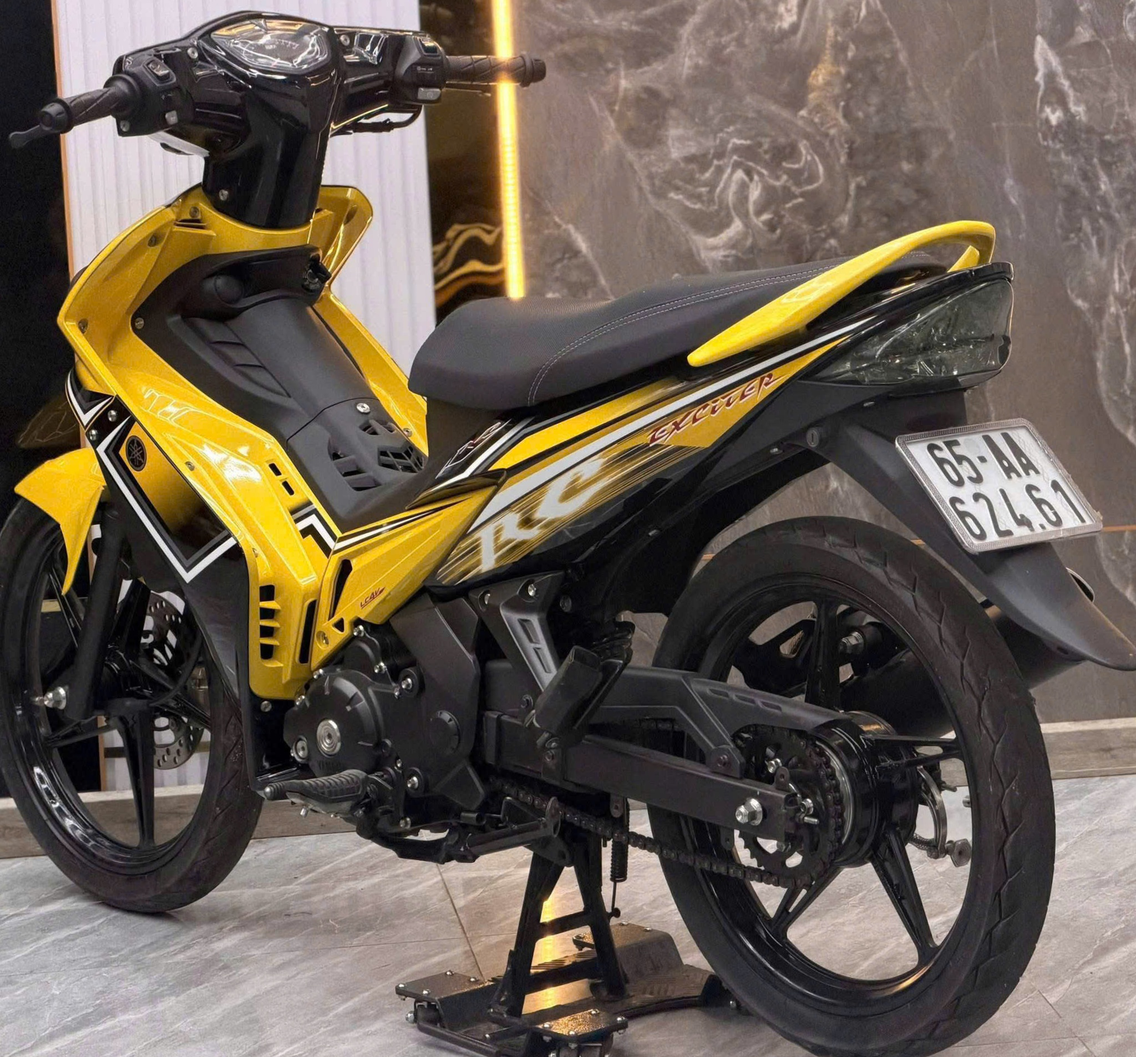Bien-so: (904, 415, 1101, 555)
